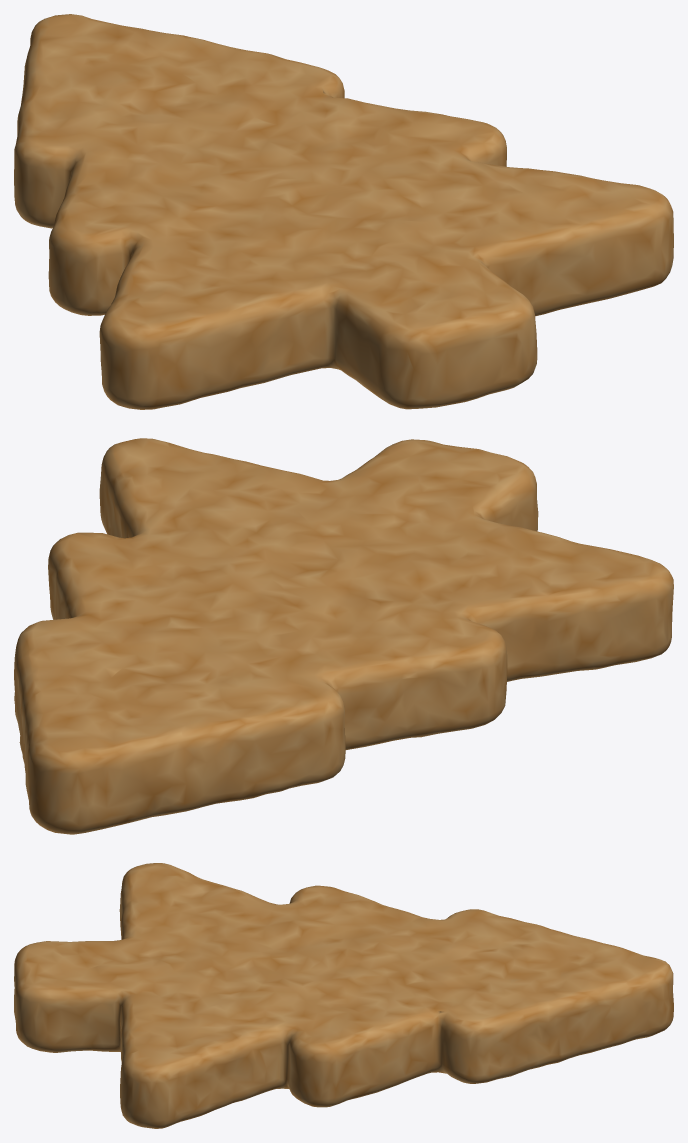
Rendered from baum.glb.
3 renders of one model, top to bottom at view 1: azimuth 30°, elevation 25°; view 2: azimuth 150°, elevation 25°; view 3: azimuth 270°, elevation 25°, orthographic. The views are drawn at different scales.
Visible parts, largest first — view 1: cookie; view 2: cookie; view 3: cookie.
Part boxes in pixels (left/top/right/bottom): cookie: left=14, top=14, right=673, bottom=409; cookie: left=14, top=438, right=673, bottom=834; cookie: left=14, top=863, right=673, bottom=1128.
Size of the model in its own units: 0.0659 by 0.00973 by 0.0868.
